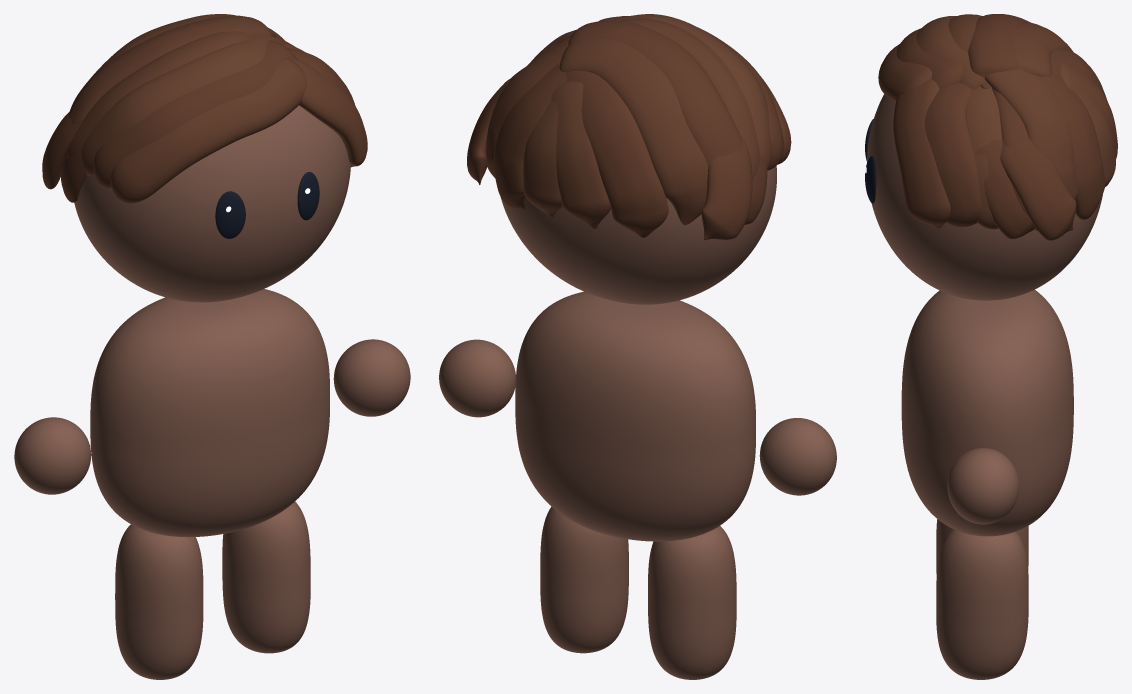
The model's file is Masculine-skin3.glb.
3 views of the same model, side by side, from view 1: azimuth 30°, elevation 25°; view 2: azimuth 150°, elevation 25°; view 3: azimuth 270°, elevation 25° (orthographic). The views are drawn at different scales.
Parts seen in each view (by area): view 1: Skin / compact torso, Skin / soft oval head, Skin / leg -1, Skin / leg 1, Hair / Main sweep 0, Hair / Main sweep 2, Hair / Main sweep 1, Skin / hand -1, Skin / hand 1, Hair / Crown sweep, Hair / Main sweep 3, Hair / Short side 0 (+6 smaller); view 2: Skin / compact torso, Skin / soft oval head, Skin / leg -1, Skin / leg 1, Hair / Back sweep 0, Hair / Back sweep 1, Hair / Crown sweep, Hair / Back sweep 2, Skin / hand 1, Skin / hand -1, Hair / Back sweep 4, Hair / Temple -1 1 (+7 smaller); view 3: Skin / compact torso, Skin / soft oval head, Skin / leg 1, Hair / Short side 1, Hair / Short side 0, Hair / Back sweep 3, Hair / Temple 1 1, Skin / hand 1, Hair / Back sweep 4, Hair / Crown sweep, Hair / Temple 1 0, Hair / Short side 2 (+11 smaller).
Boxes of the visible parts, x1,y1,x2,y2 form: Skin / compact torso: (90, 289, 329, 537); Skin / soft oval head: (74, 105, 350, 302); Skin / leg -1: (115, 524, 203, 679); Skin / leg 1: (222, 501, 310, 653); Hair / Main sweep 0: (110, 58, 307, 203); Hair / Main sweep 2: (81, 35, 282, 176); Hair / Main sweep 1: (93, 40, 296, 188); Skin / hand -1: (14, 417, 91, 494); Skin / hand 1: (333, 339, 410, 416); Hair / Crown sweep: (63, 15, 272, 161); Hair / Main sweep 3: (66, 31, 253, 157); Hair / Short side 0: (293, 59, 367, 167); Skin / compact torso: (515, 291, 755, 541); Skin / soft oval head: (500, 166, 776, 304); Skin / leg -1: (648, 526, 736, 679); Skin / leg 1: (540, 506, 628, 653); Hair / Back sweep 0: (559, 38, 708, 225); Hair / Back sweep 1: (566, 70, 668, 237); Hair / Crown sweep: (568, 20, 742, 166); Hair / Back sweep 2: (551, 81, 610, 229); Skin / hand 1: (439, 339, 515, 417); Skin / hand -1: (759, 418, 836, 495); Hair / Back sweep 4: (493, 62, 566, 209); Hair / Temple -1 1: (701, 136, 752, 240); Skin / compact torso: (901, 289, 1073, 536); Skin / soft oval head: (867, 94, 1102, 300); Skin / leg 1: (936, 529, 1028, 679); Hair / Short side 1: (924, 82, 981, 226); Hair / Short side 0: (893, 79, 950, 228); Hair / Back sweep 3: (985, 69, 1078, 200); Hair / Temple 1 1: (1000, 138, 1076, 240); Skin / hand 1: (947, 448, 1019, 524); Hair / Back sweep 4: (1039, 73, 1105, 219); Hair / Crown sweep: (968, 14, 1030, 88); Hair / Temple 1 0: (974, 139, 1034, 239); Hair / Short side 2: (966, 87, 1001, 229).
Bounding box in the file's own units: 1.49 × 2.32 × 0.8581.
